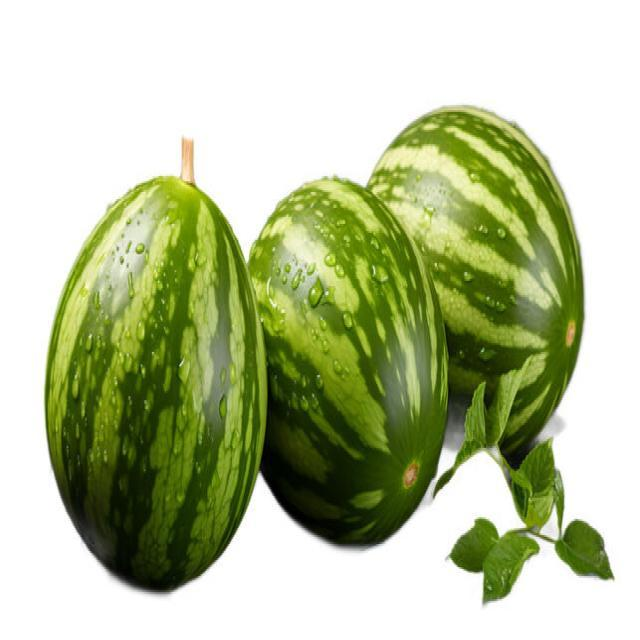Watermelon: (48, 172, 270, 584), (376, 96, 588, 448), (256, 178, 452, 542)
